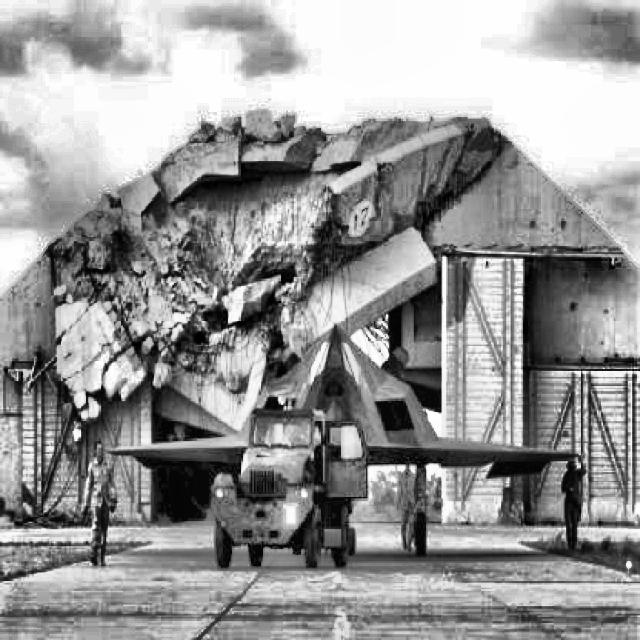F117: (105, 320, 578, 555)
